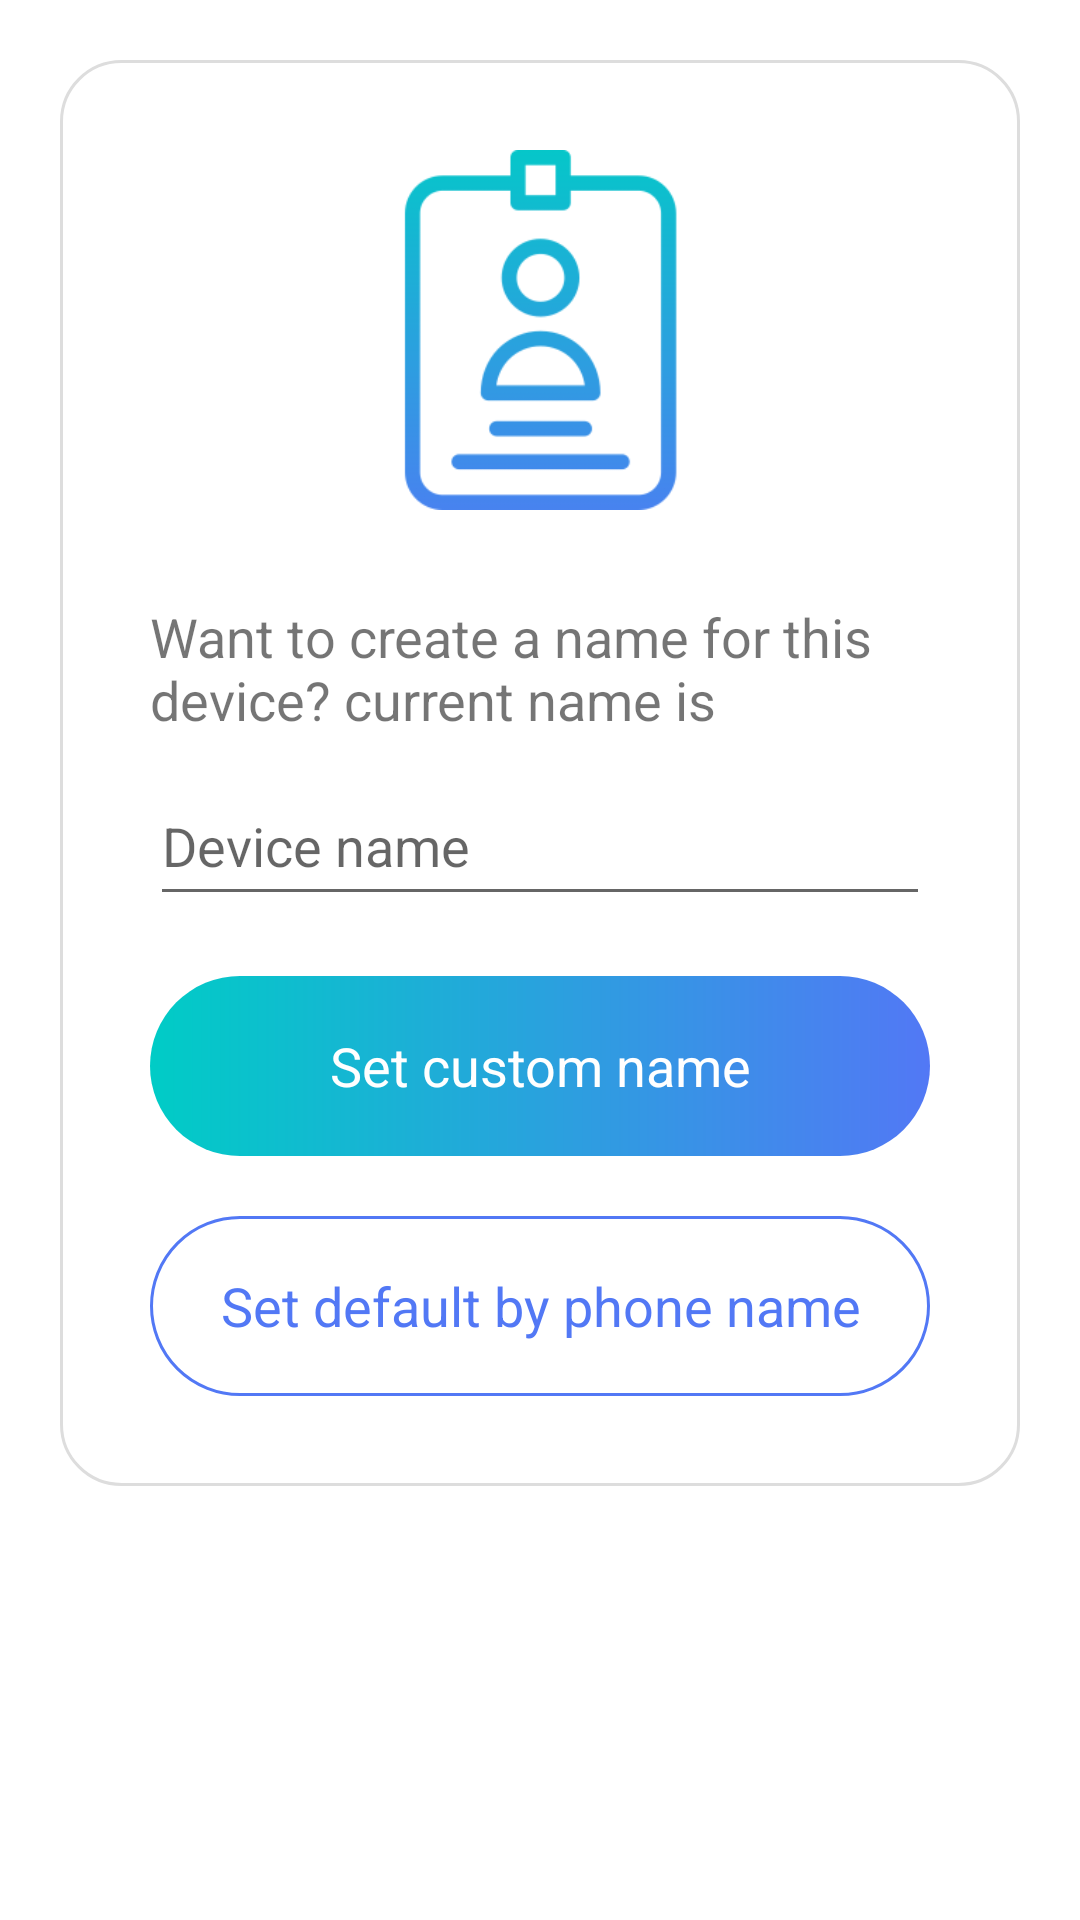

Icons on this 1080 × 1920 Android screen, each with its box as (x1, y1, x2, y2):
identification: (404, 150, 677, 510)
